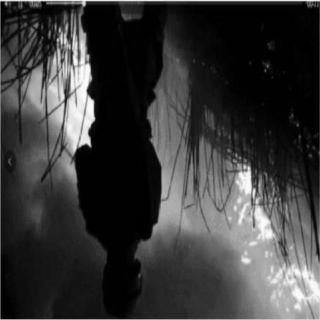Fire: (41, 21, 98, 187)
